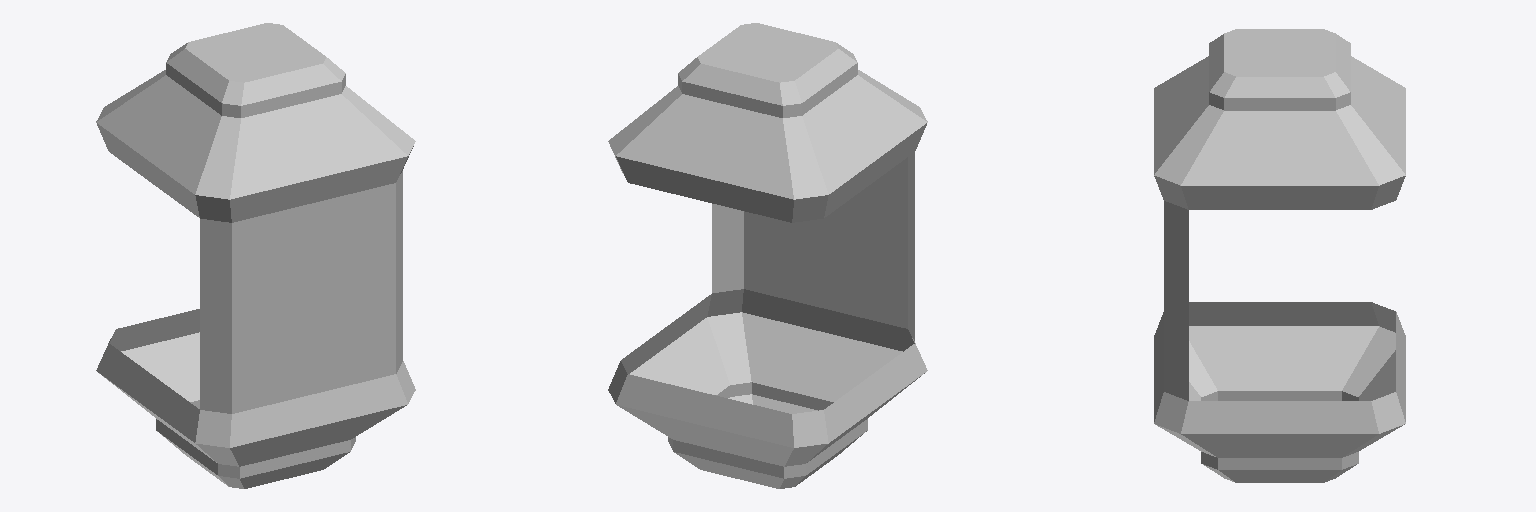
The model's file is Terrarium.obj.
3 renders of one model, left to right at view 1: azimuth 30°, elevation 25°; view 2: azimuth 150°, elevation 25°; view 3: azimuth 270°, elevation 25°, orthographic.
Parts seen in each view (by area): view 1: polySurface26; view 2: polySurface26; view 3: polySurface26.
Boxes of the visible parts, x1,y1,x2,y2 form: polySurface26: [96, 23, 415, 488]; polySurface26: [608, 23, 927, 488]; polySurface26: [1154, 29, 1405, 482].
Bounding box in the file's own units: 0.4409 × 0.776 × 0.4365.